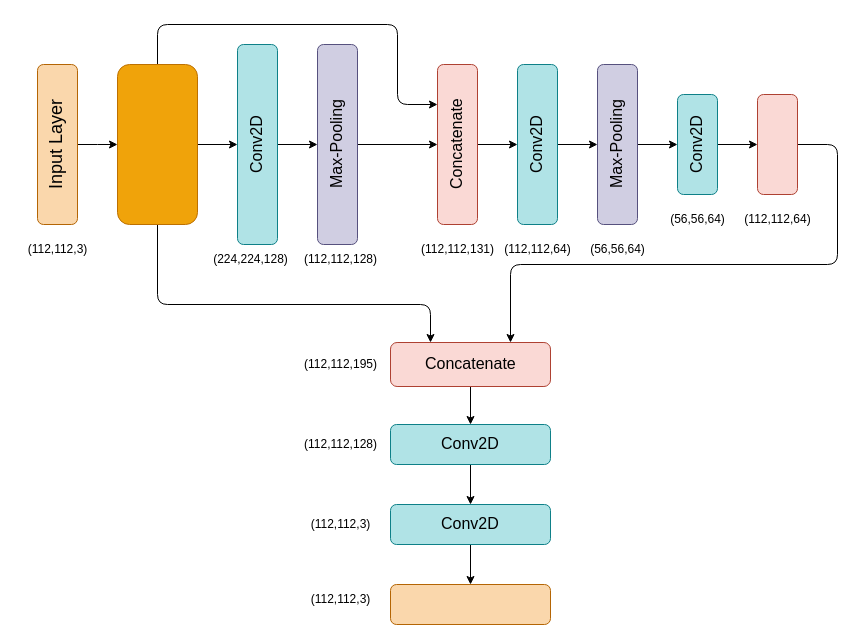
Some shapes in this 863 by 642 pixel diagram are drawn without their labels. Here are the shapes that lost their labels. From the top down, the centre of each, then its label:
At point (157, 144): "Super-Resolution Block".
At point (777, 144): "Upsampling".
At point (470, 604): "Output".
